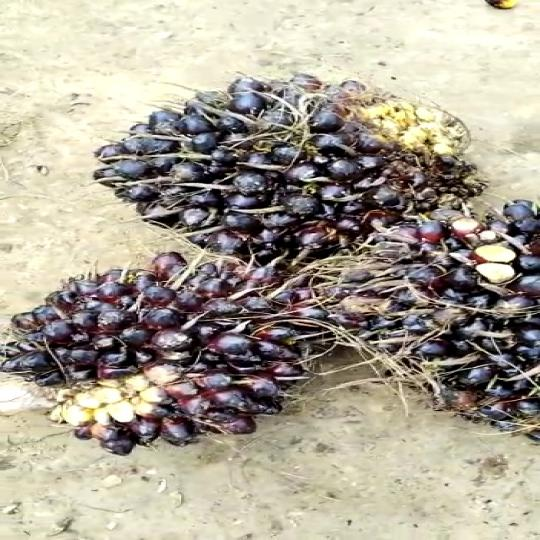mentah: (81, 63, 499, 262), (0, 248, 341, 454), (319, 195, 540, 453)
